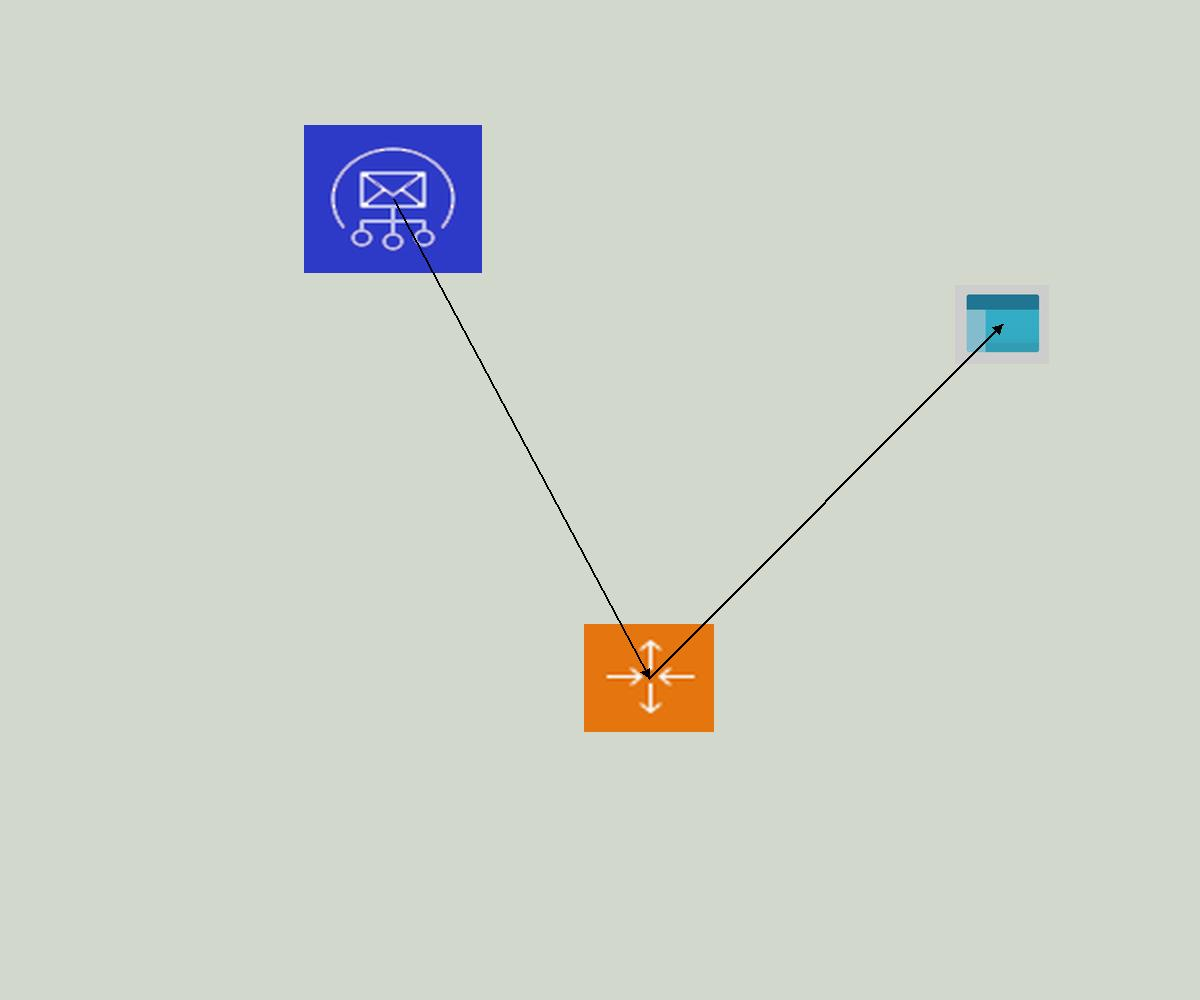AWS-Scaling-group: (584, 624, 714, 732)
AWS-Simple-Email-Service: (304, 125, 482, 273)
Azure_management-portal: (955, 285, 1049, 364)
